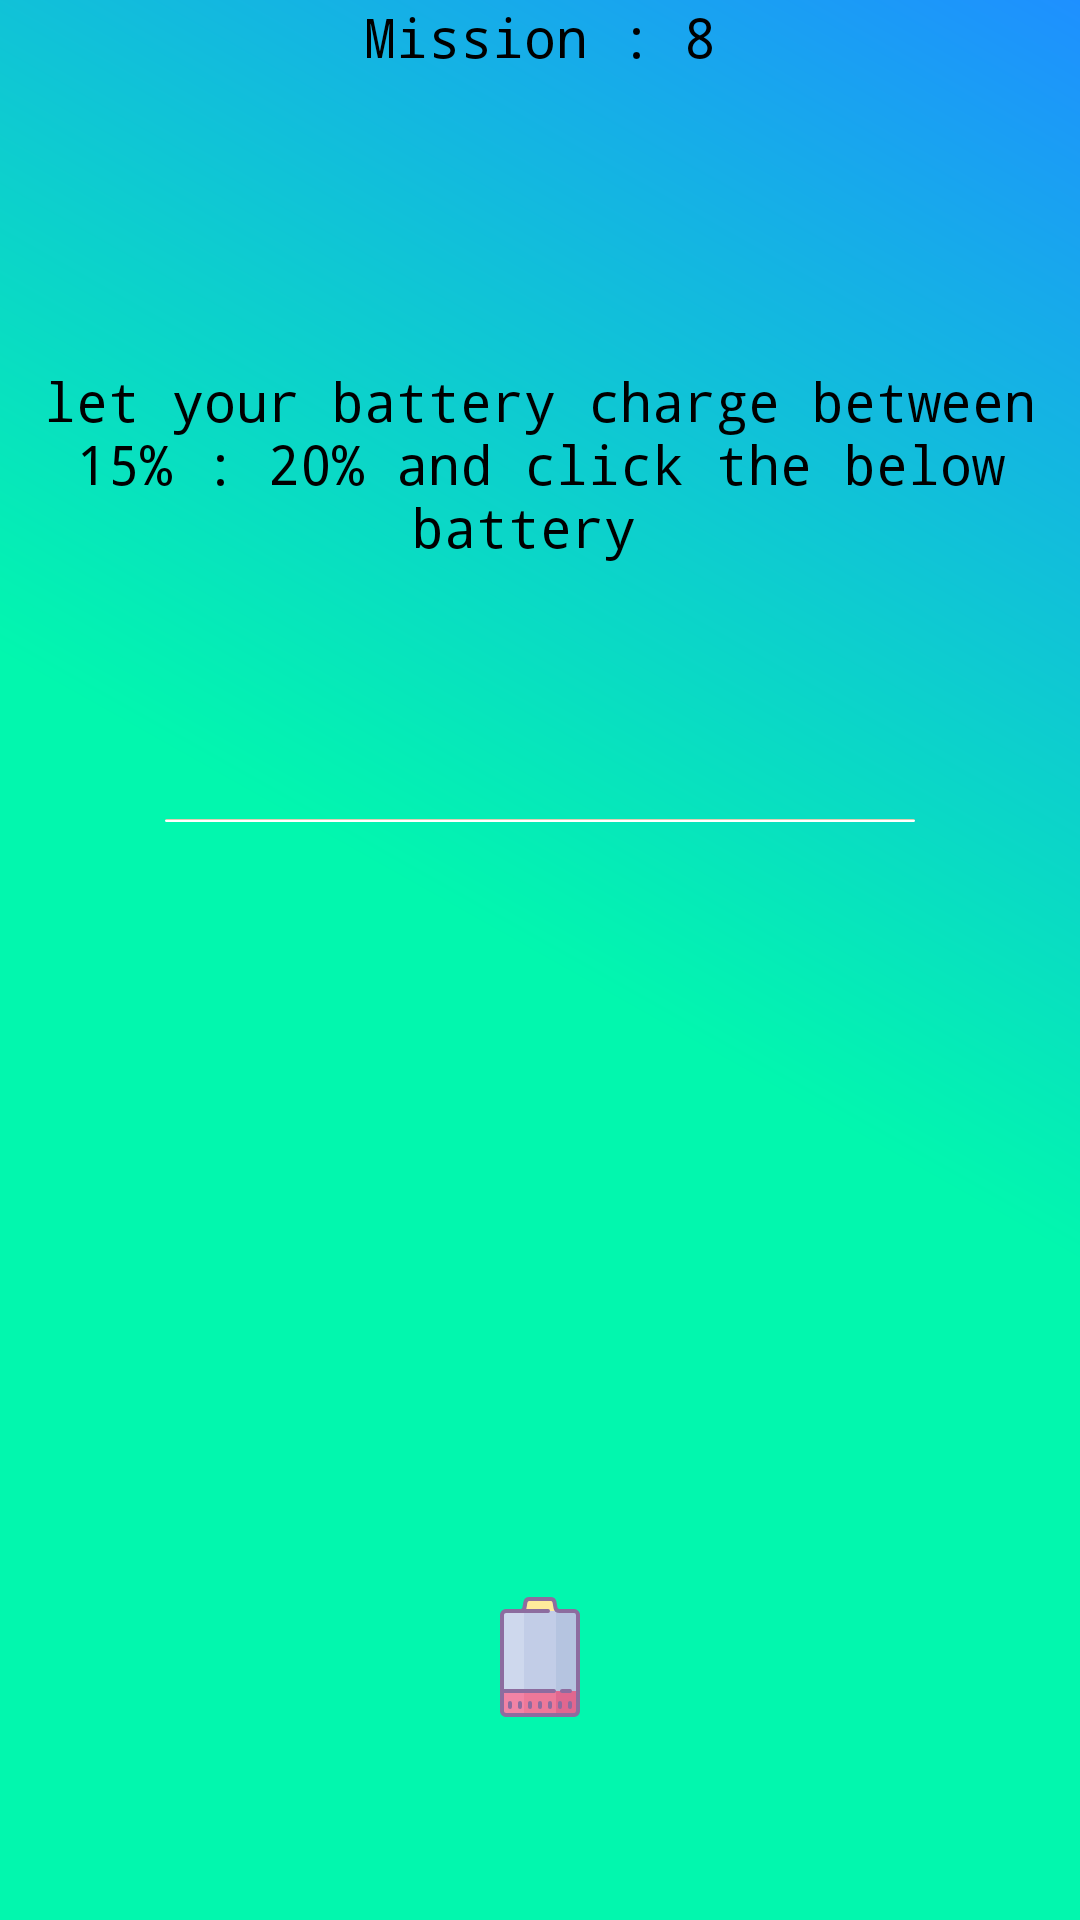

Where icons sit on this 1080×1920 app screen, as [x1, y1, x2, y2]:
battery low: [500, 1597, 580, 1717]
